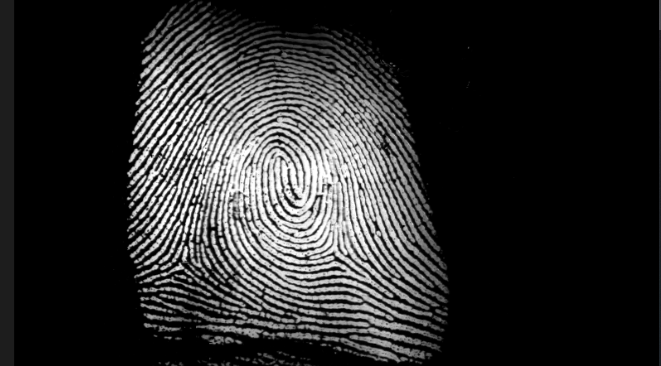nucelo: (262, 143, 295, 181)
verticilo: (162, 261, 197, 283), (317, 239, 346, 258)
